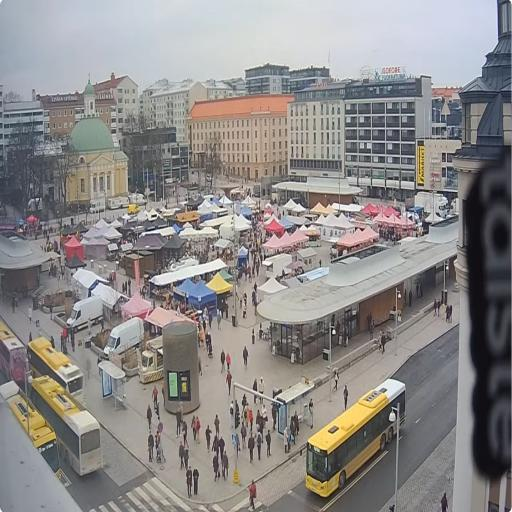Bus: (306, 379, 406, 497), (30, 376, 102, 475), (0, 381, 60, 478), (28, 337, 83, 401), (0, 322, 28, 385)
Delivery: (104, 318, 144, 358), (67, 297, 103, 332), (137, 336, 163, 383)
